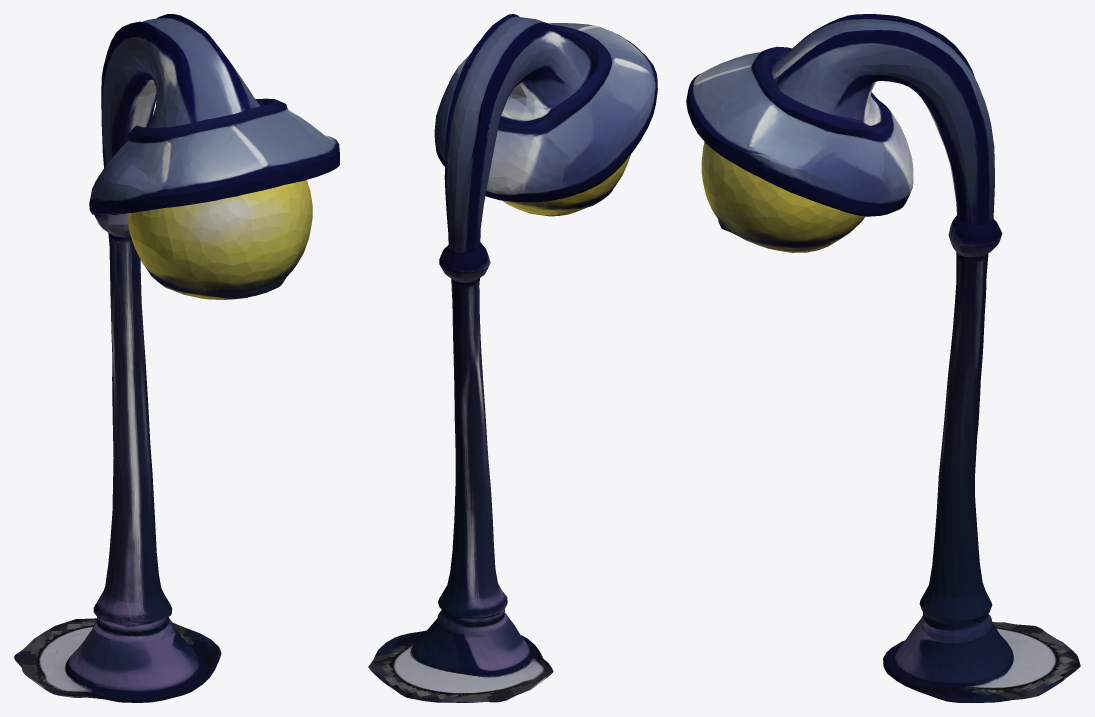
3 views of the same model, side by side, from view 1: azimuth 30°, elevation 25°; view 2: azimuth 150°, elevation 25°; view 3: azimuth 270°, elevation 25° (orthographic). The views are drawn at different scales.
Visible parts, largest first — view 1: world; view 2: world; view 3: world.
Part boxes in pixels (x1,y1,x2,y2): world: [14, 14, 339, 702]; world: [368, 14, 657, 702]; world: [686, 14, 1080, 702].
Bounding box in the file's own units: 0.3275 × 1 × 0.5579.
Materials: 1 (1 with a texture image).
